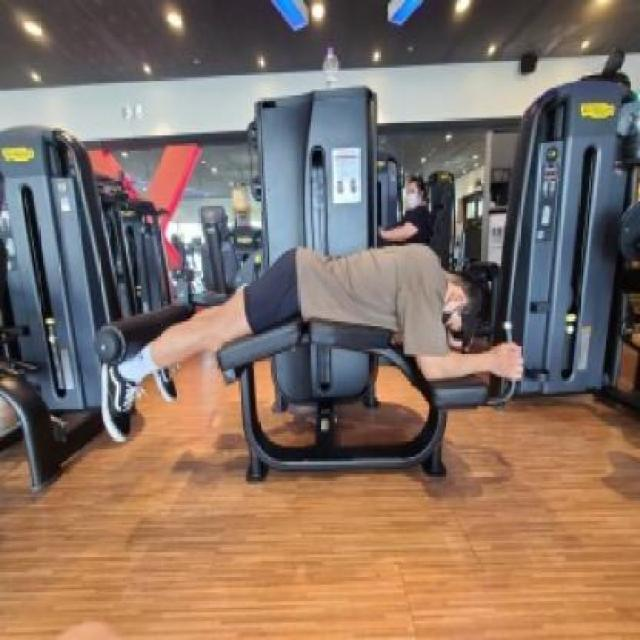reg curl machine: (90, 83, 528, 491)
